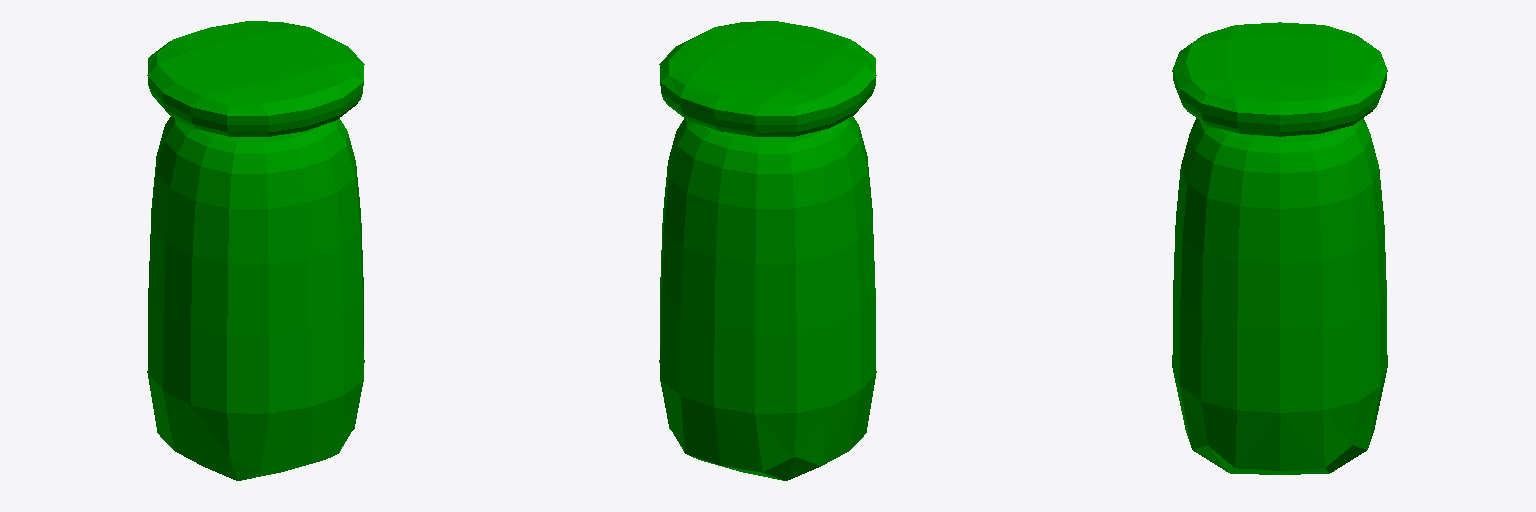
File: grasshoppers-poison.obj
3 renders of one model, left to right at view 1: azimuth 30°, elevation 25°; view 2: azimuth 150°, elevation 25°; view 3: azimuth 270°, elevation 25°, orthographic.
Parts seen in each view (by area): view 1: GrasshoppersPoison_Cube.1746; view 2: GrasshoppersPoison_Cube.1746; view 3: GrasshoppersPoison_Cube.1746.
Boxes of the visible parts, <box> form: GrasshoppersPoison_Cube.1746: <box>147,21,364,480</box>; GrasshoppersPoison_Cube.1746: <box>659,21,876,480</box>; GrasshoppersPoison_Cube.1746: <box>1172,22,1387,474</box>.
Bounding box in the file's own units: 0.7496 × 1.51 × 0.7496.